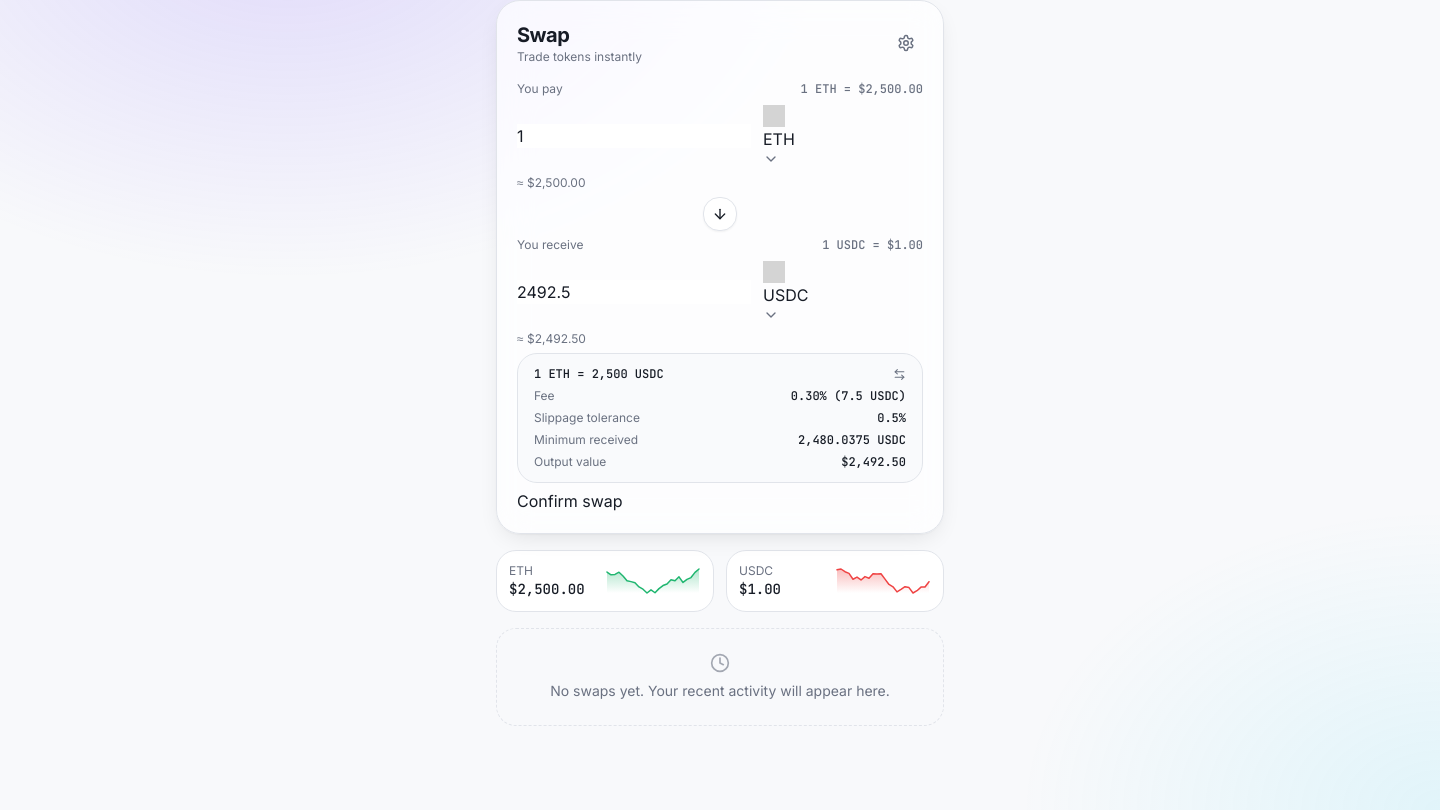
SwapCard integration (en locale) › flips from/to when the swap-direction button is clicked
Expected: the field labelled "You pay" is shown, [517, 124, 751, 148]
Expected: the text "1 ETH = 2,500 USDC" is shown, [534, 366, 664, 382]
Click the button named "Swap direction": x=720, y=214 [703, 197, 737, 231]
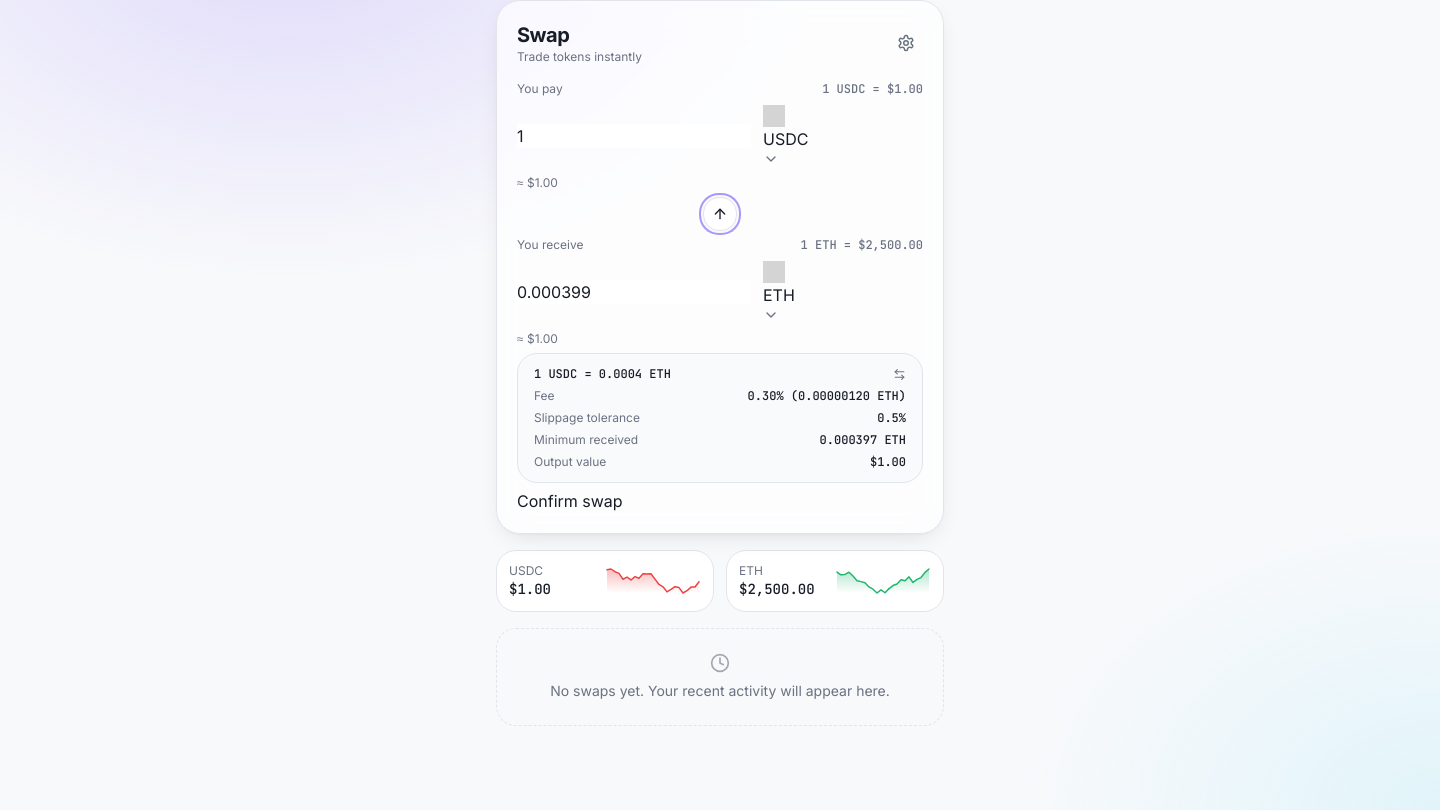
Expected: the text "1 USDC = 0.0004 ETH" is shown, [534, 366, 671, 382]
